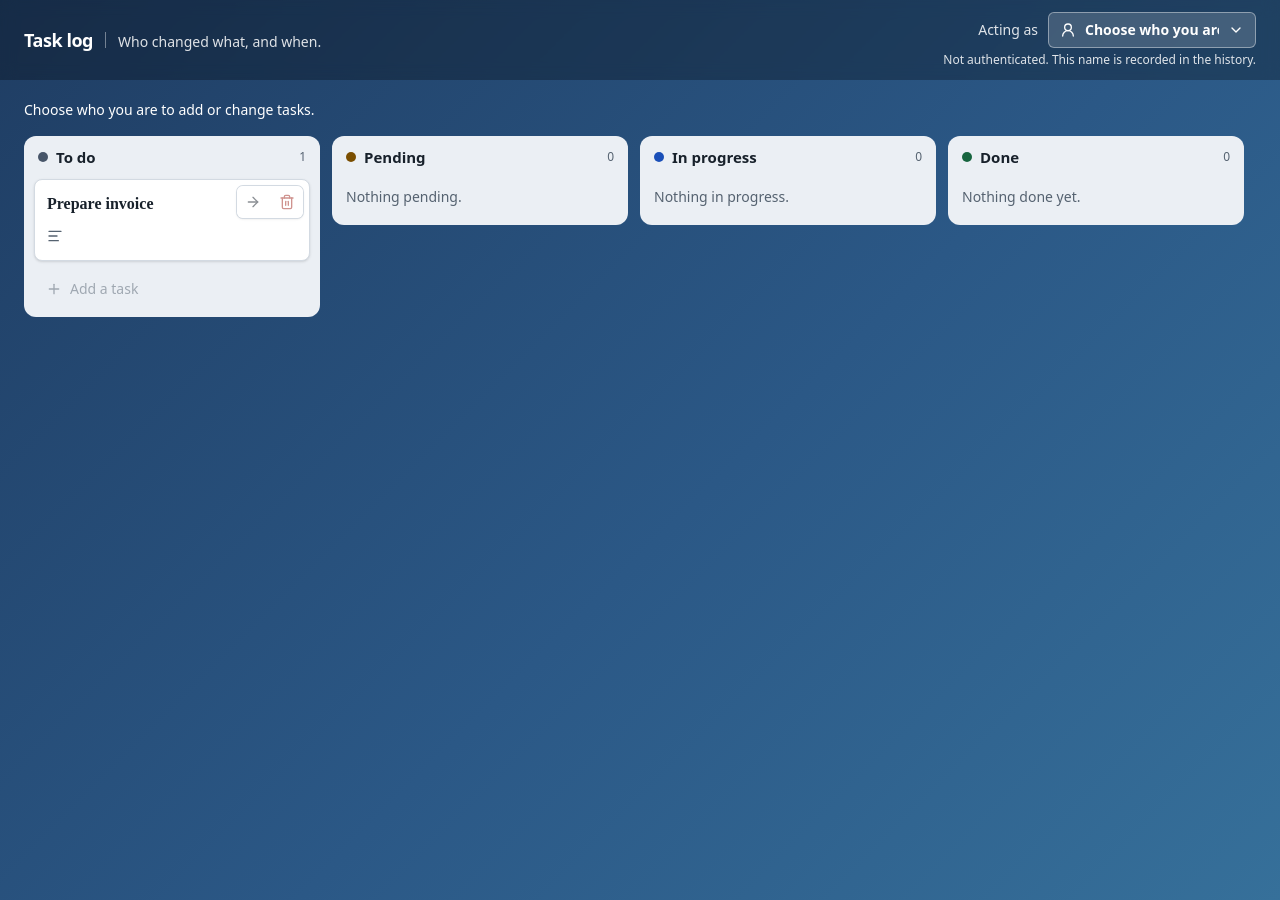
Test: card popup › should be read-only until an actor is chosen
The width and height of the screenshot is (1280, 900).
Click the button "Prepare invoice" at (172, 204), box x1=47 y1=192 x2=297 y2=216
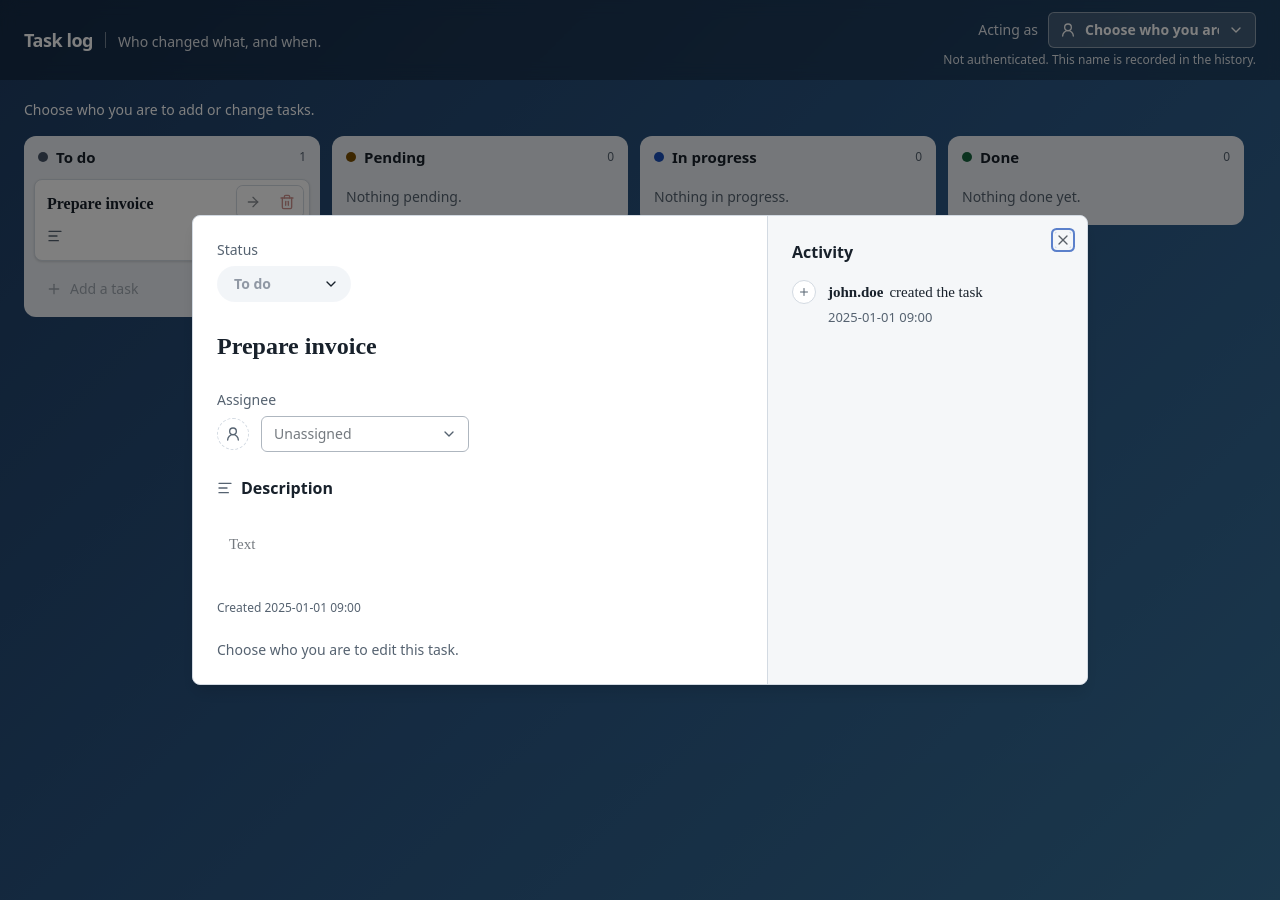
Check: the button with aria-label "Edit title: Prepare invoice" is disabled, box x1=209 y1=326 x2=751 y2=366
Check: the button with aria-label "Edit description" is disabled, box x1=217 y1=512 x2=743 y2=576
Check: the dropdown labelled "Assignee" is disabled, box x1=261 y1=416 x2=469 y2=452
